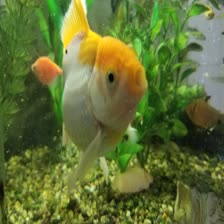Cuezo: (53, 0, 152, 191)
